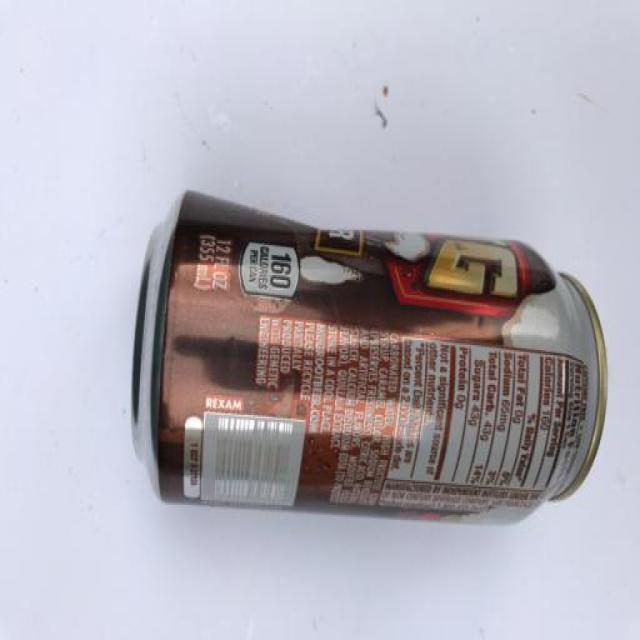metel: (106, 154, 627, 555)
